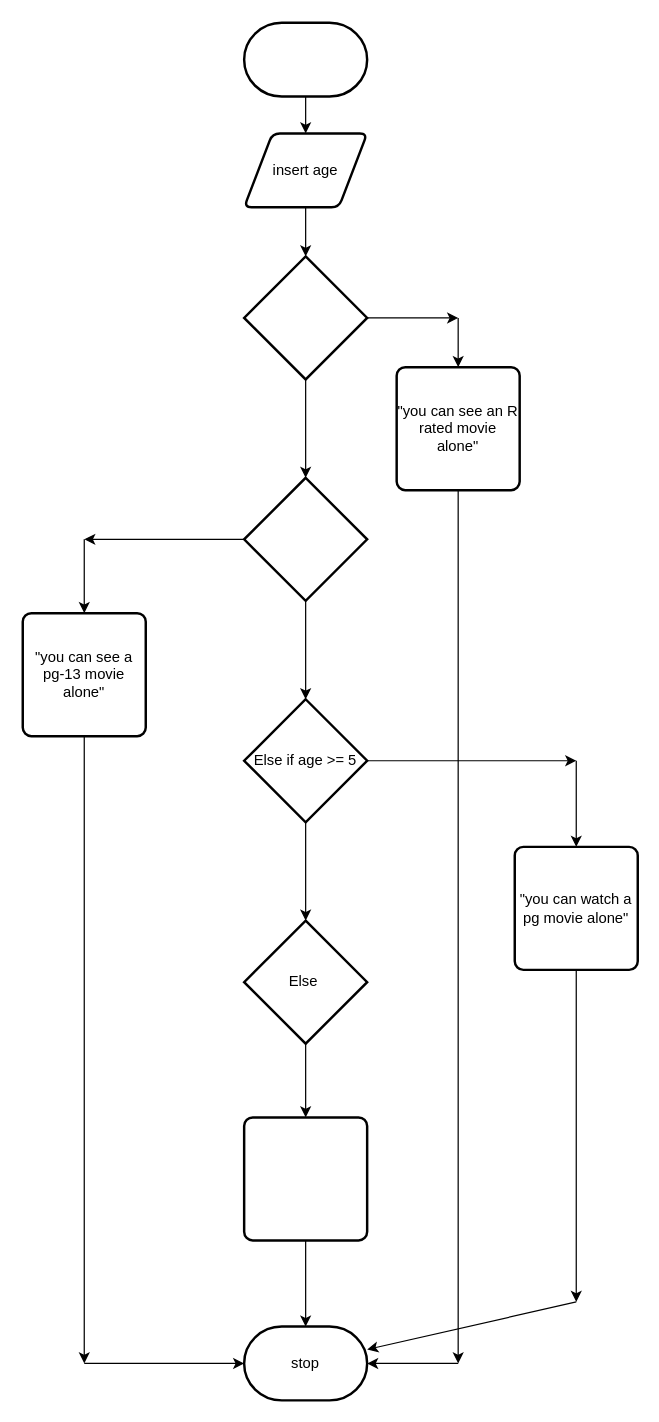
Image size: 659x1422. Some labels were removed from this diagram. Here are the shapes that lost their labels. From the top down, the centre of each, then its label:
point (305, 59): start
point (305, 317): if age >= 17
point (305, 538): Else if age >= 13
point (305, 1178): "are you even human?"
